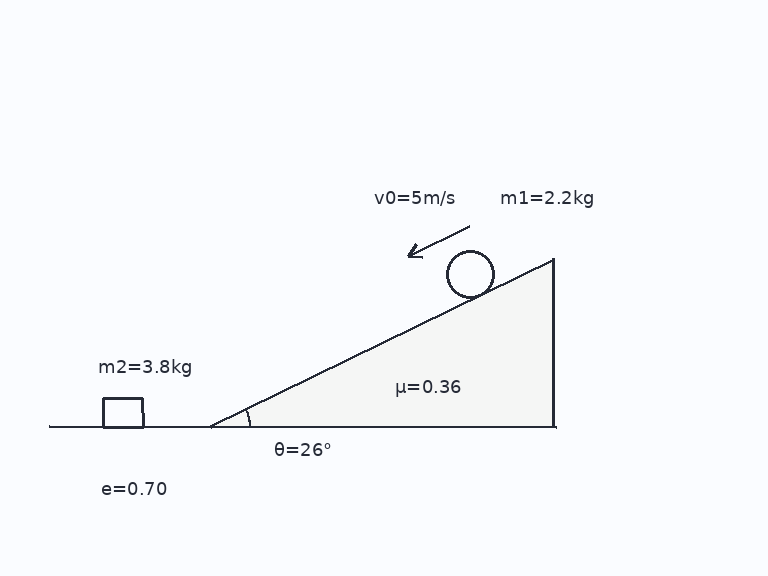ball: (444, 248, 496, 300)
block: (101, 396, 145, 429)
ramp: (208, 257, 556, 429)
